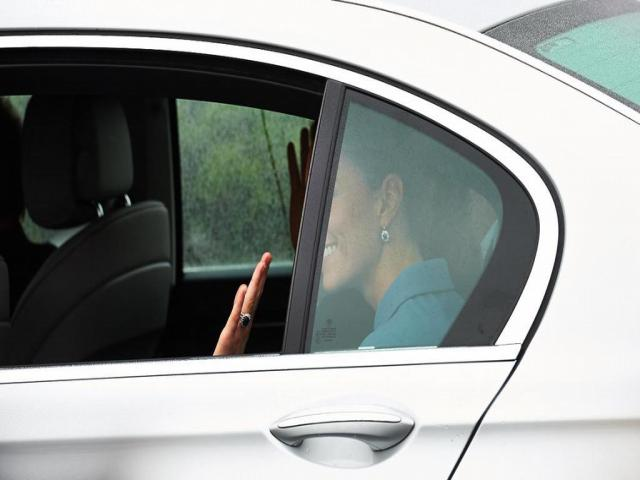Door-handle: (265, 400, 420, 449)
